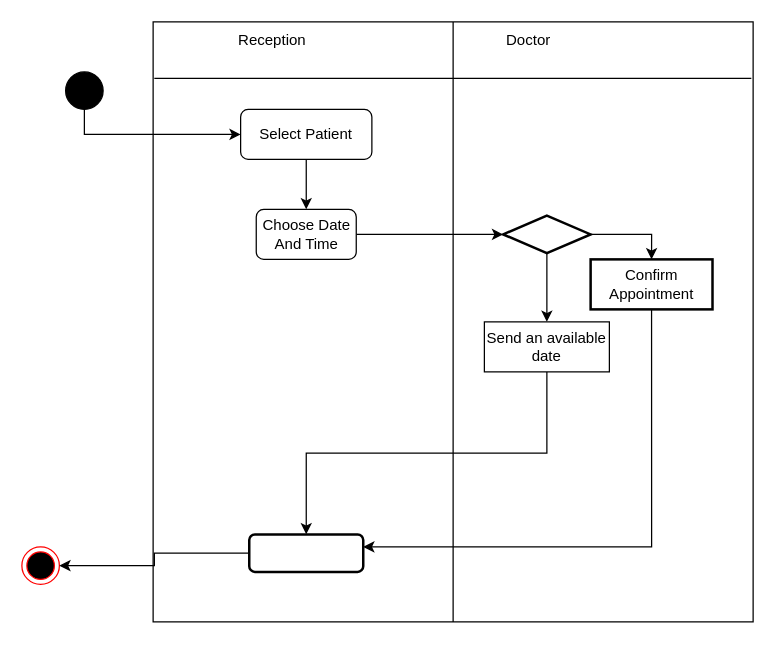
The diagram is 775 pixels wide and 645 high, and some of its shapes have lost their labels. Each missing label, with the centre of its shape:
"Check" goes at point (546, 234).
"Notify Patient" goes at point (305, 552).
